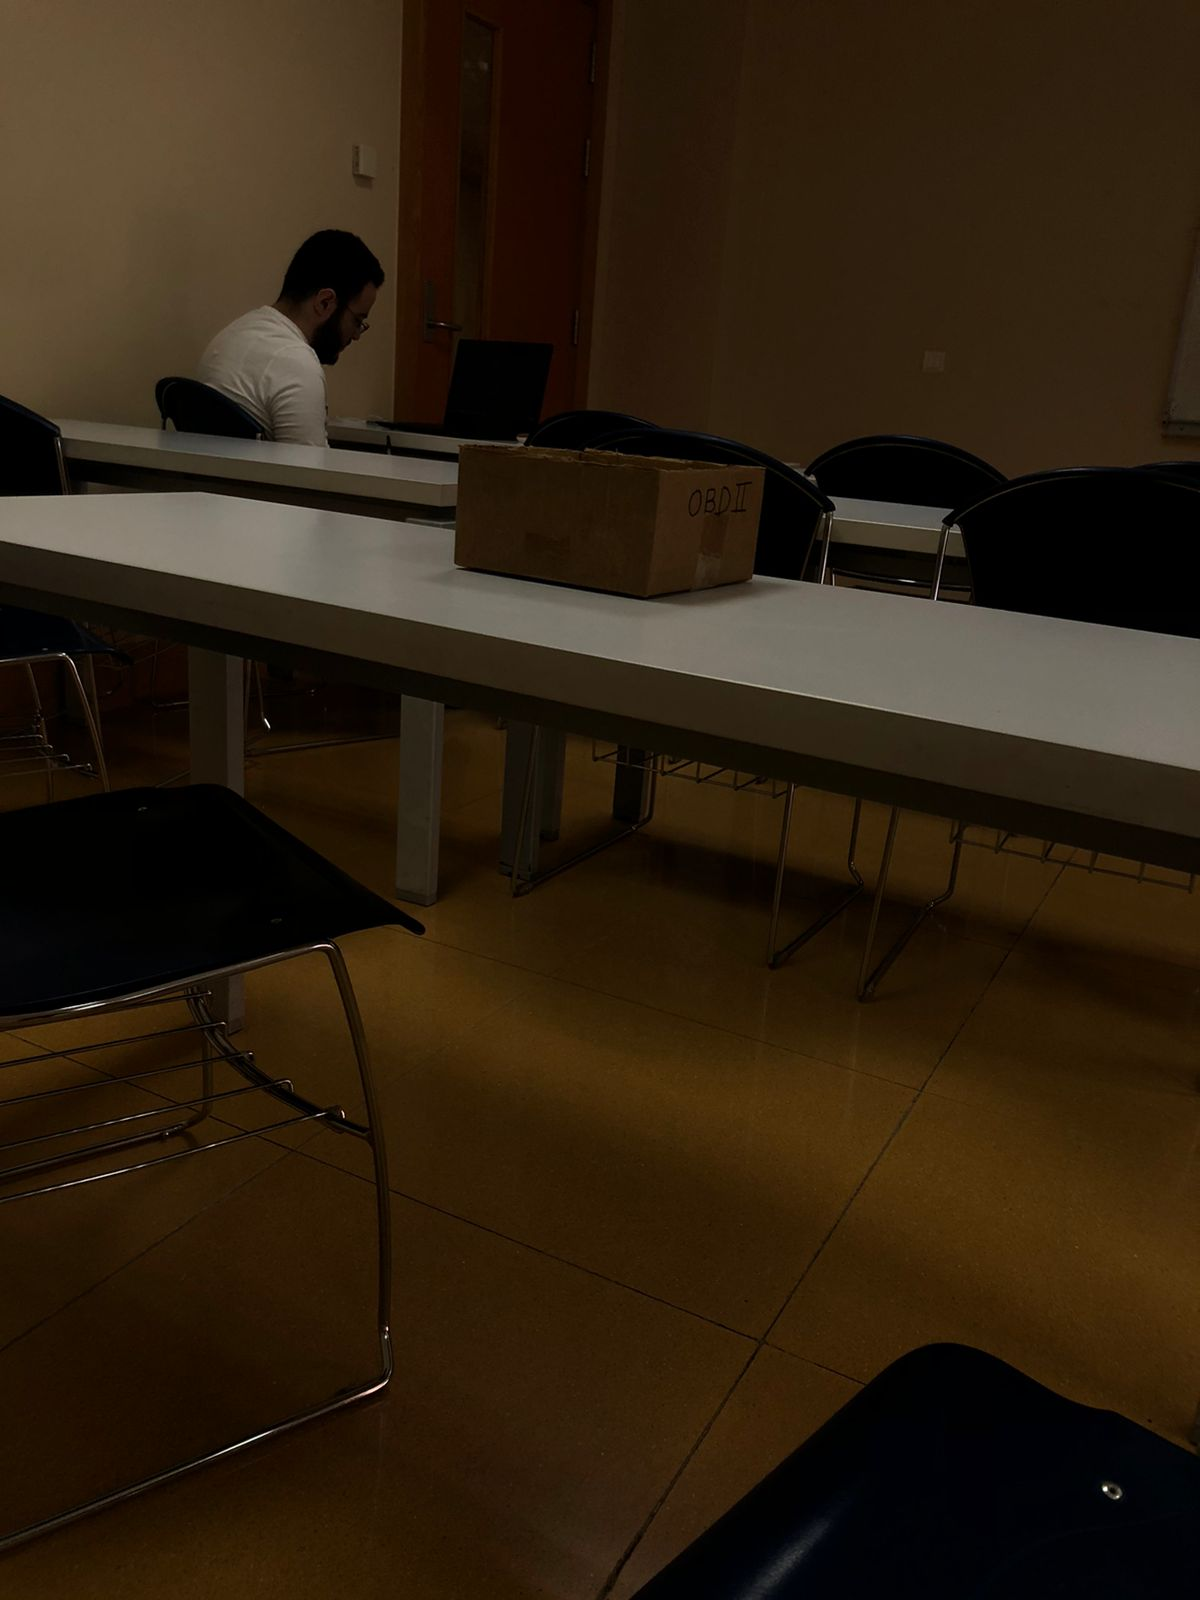CBox: (453, 431, 775, 621)
